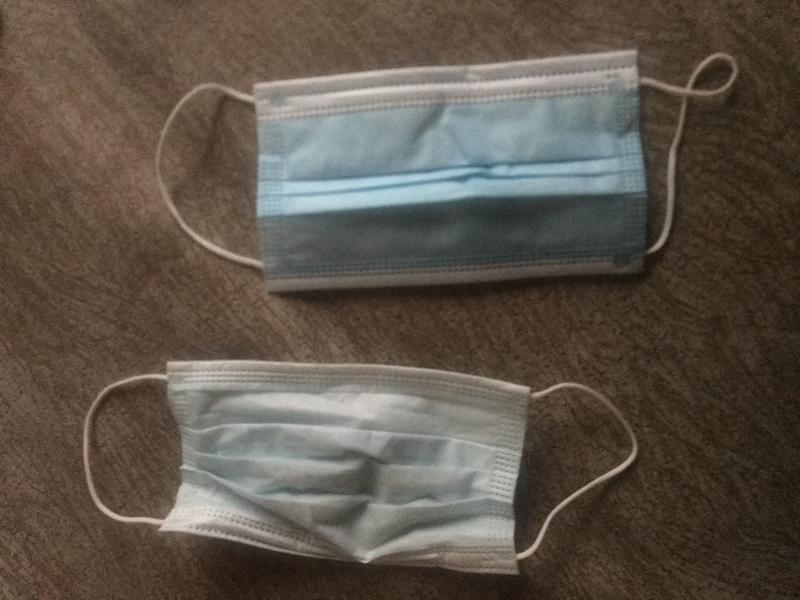medical_mask: (153, 52, 739, 291), (82, 360, 640, 575)
